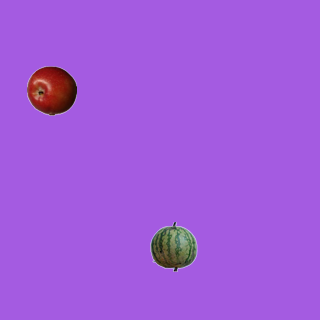Apple Braeburn: (26, 65, 76, 115)
Watermelon: (148, 221, 198, 271)
